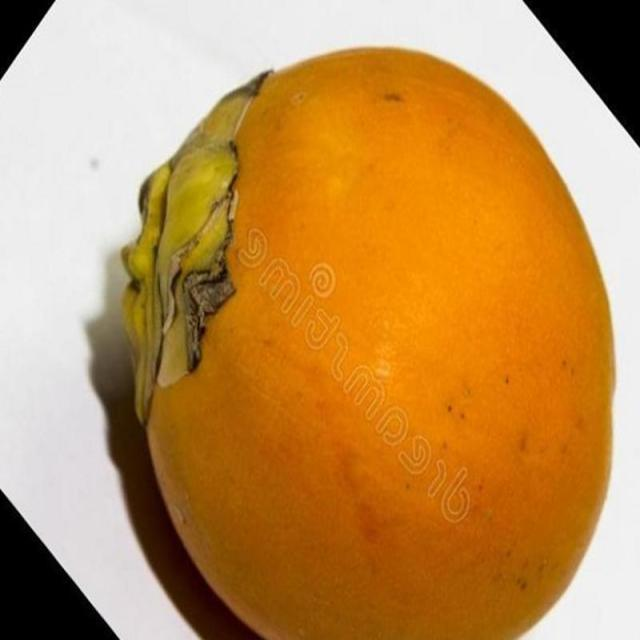good: (119, 47, 618, 639)
